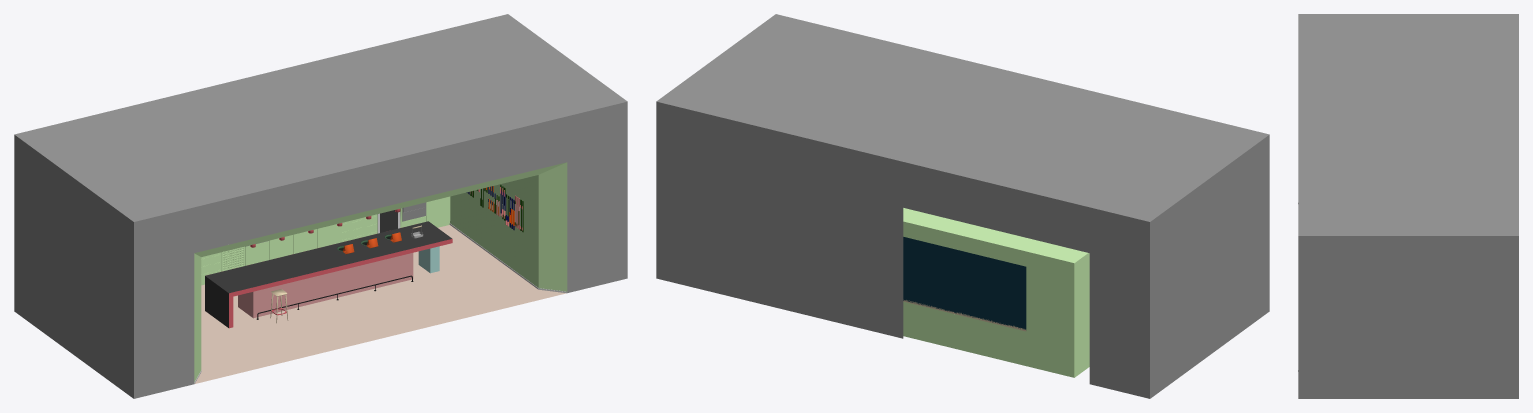
Rendered from ul-kitchen16.gltf.
3 views of the same model, side by side, from view 1: azimuth 30°, elevation 25°; view 2: azimuth 150°, elevation 25°; view 3: azimuth 270°, elevation 25° (orthographic). The views are drawn at different scales.
Visible parts, largest first — view 1: concreteWalls, floor, mainGreenWall, mainTableTopPlane, mainTableBase, closetDoors, mainTableSidePannels, mainTableSidePlane; view 2: concreteWalls, mainGreenWall, MainNishBackWall; view 3: concreteWalls.
Part boxes in pixels (x1,y1,x2,y2): concreteWalls: [14, 14, 627, 398]; floor: [195, 225, 565, 383]; mainGreenWall: [194, 162, 567, 381]; mainTableTopPlane: [205, 221, 451, 292]; mainTableBase: [238, 253, 413, 318]; closetDoors: [201, 196, 450, 281]; mainTableSidePannels: [229, 239, 452, 328]; mainTableSidePlane: [205, 276, 228, 327]; concreteWalls: [656, 14, 1269, 398]; mainGreenWall: [903, 208, 1089, 377]; MainNishBackWall: [903, 237, 1026, 329]; concreteWalls: [1298, 14, 1518, 398].
Bounding box in the file's own units: 208 × 71.34 × 87.55.
